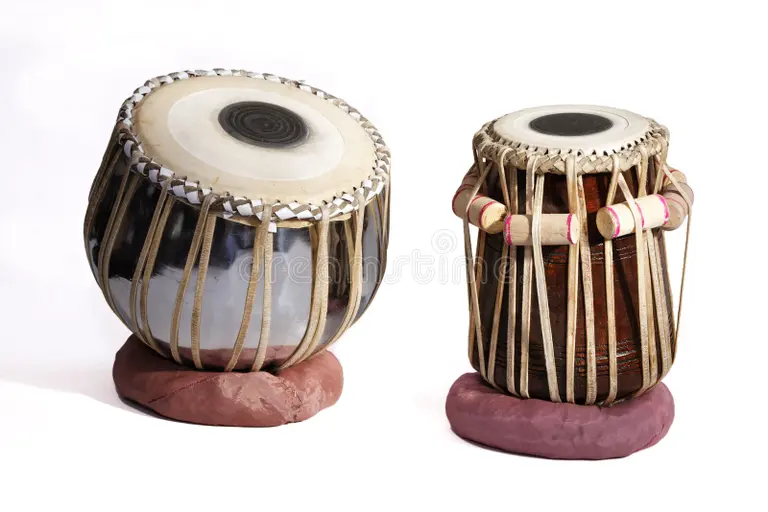tabla: (81, 69, 389, 355), (453, 104, 694, 408)
